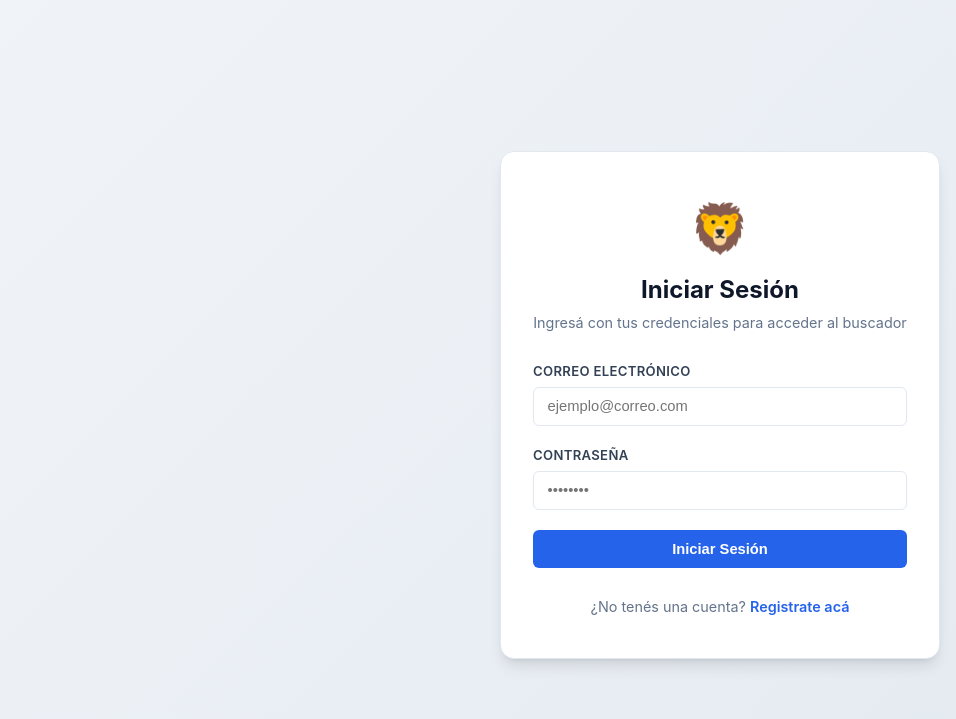
Scenario: sesión y autenticación › muestra el error genérico de un login fallido
Type "demo@customswatch.test" into the field labelled "Correo electrónico" at (720, 406), box [533,387,907,426]
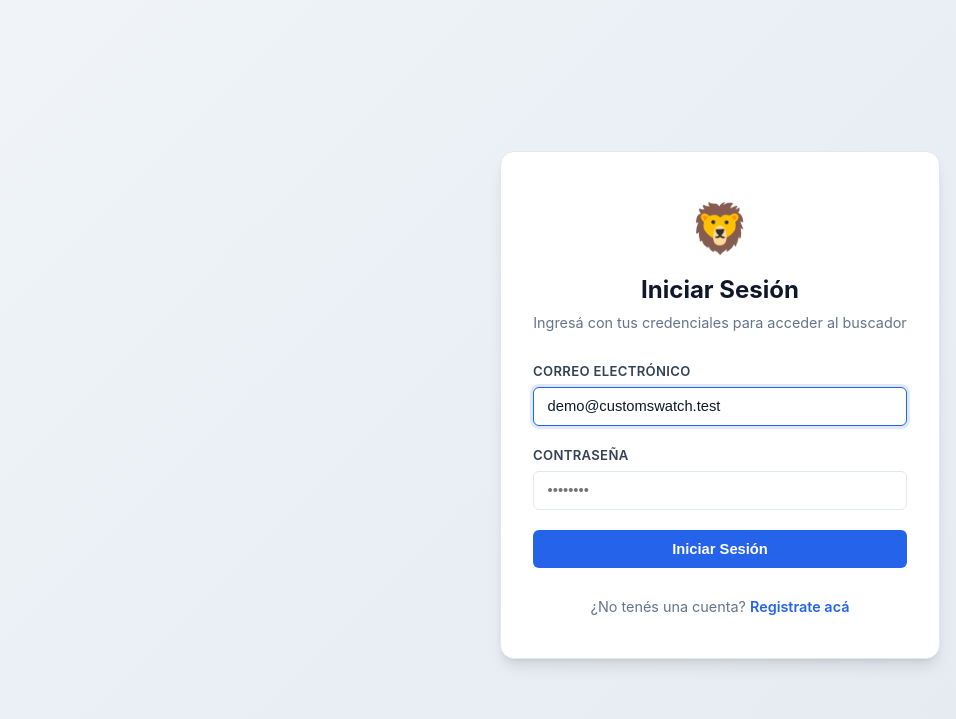
Type "incorrecta" into the password field labelled "Contraseña" at (720, 490), box [533,471,907,510]
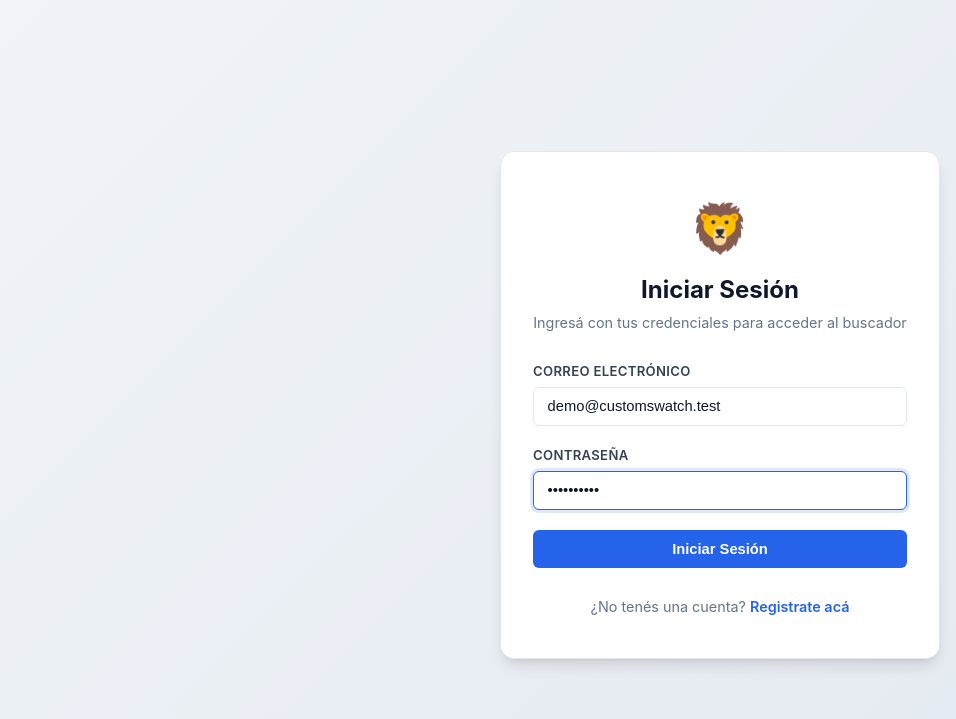
Click the button "Iniciar Sesión" at (720, 549), box [533,530,907,568]
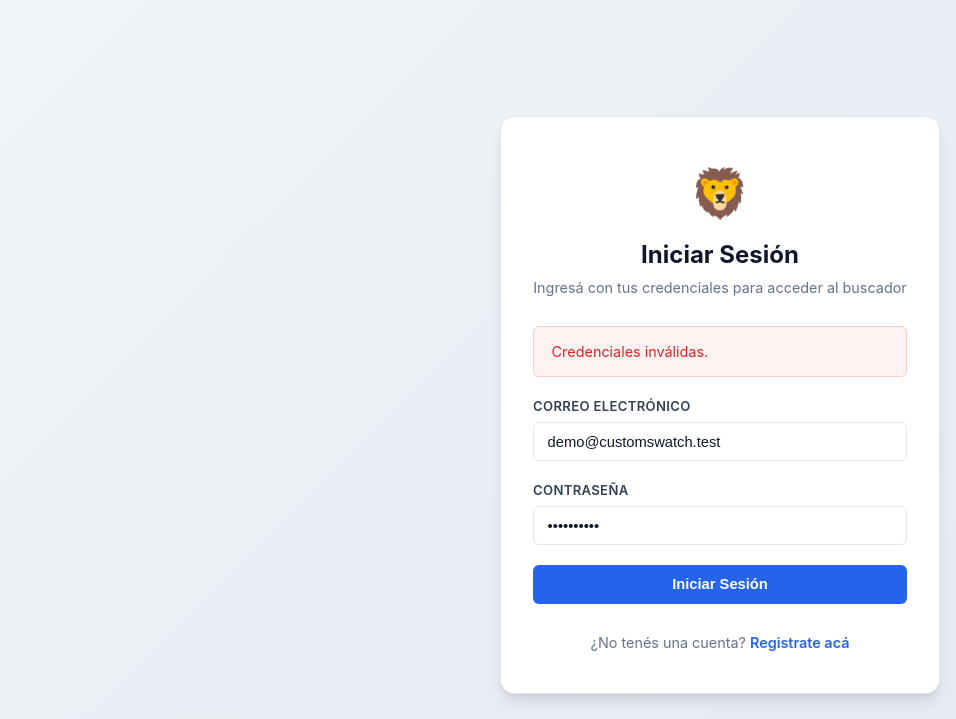
expect the message reads "Credenciales inválidas.": met, box [552,343,708,360]
